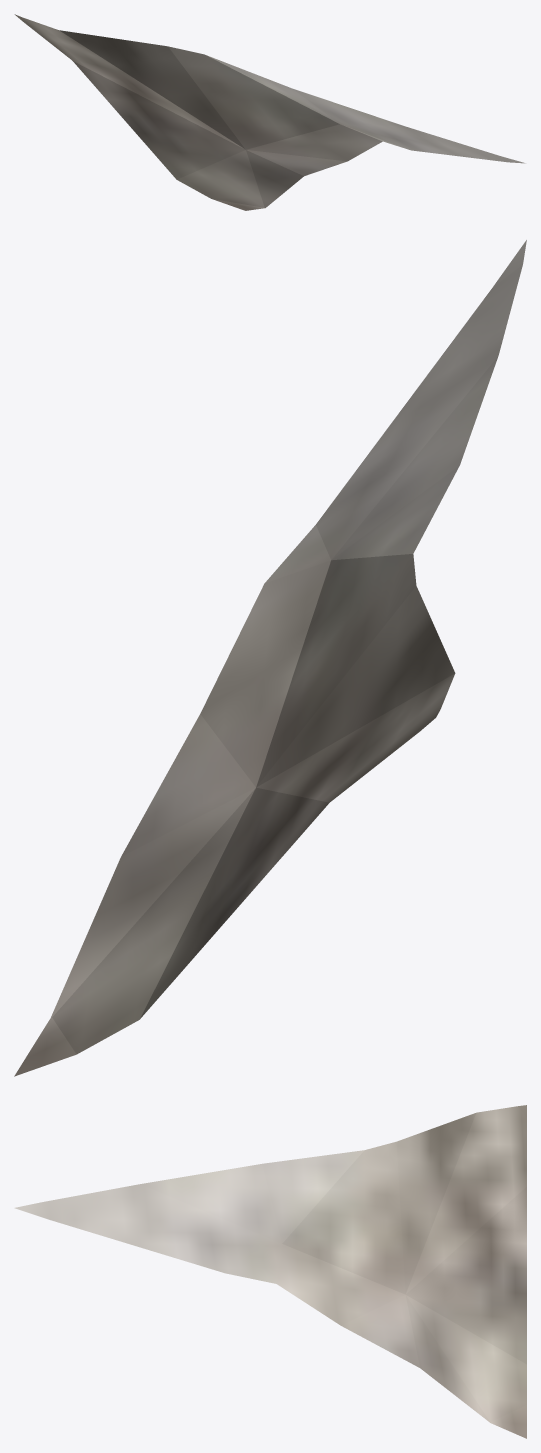
3 renders of one model, top to bottom at view 1: azimuth 30°, elevation 25°; view 2: azimuth 150°, elevation 25°; view 3: azimuth 270°, elevation 25°, orthographic. The views are drawn at different scales.
Size of the model in its own units: 0.2156 by 0.2255 by 0.4538.
1 material, 1 textured.
